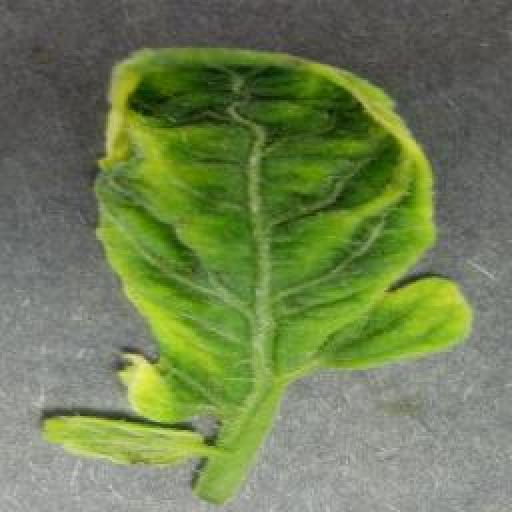disease_tomato: (94, 44, 475, 421), (38, 409, 212, 476)
